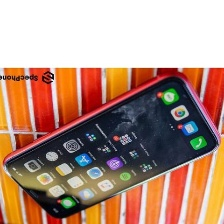phone: (0, 69, 221, 223)
